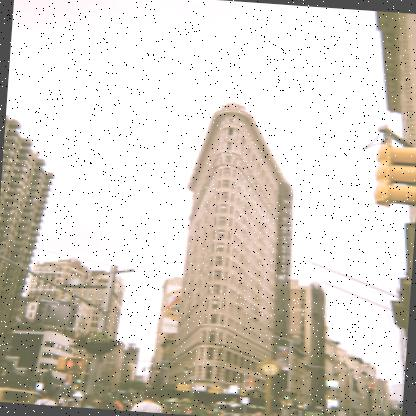trafficlight: (371, 141, 415, 210)
